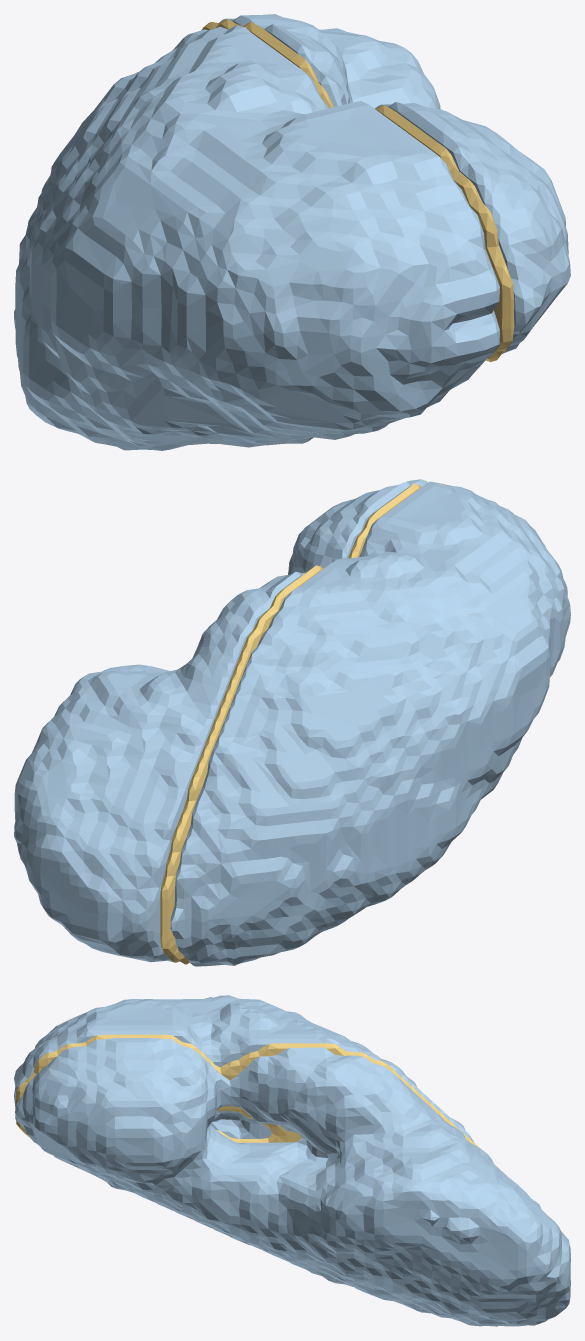
The model's file is prompt.glb.
3 renders of one model, top to bottom at view 1: azimuth 30°, elevation 25°; view 2: azimuth 150°, elevation 25°; view 3: azimuth 270°, elevation 25°, orthographic. The views are drawn at different scales.
Parts seen in each view (by area): view 1: world; view 2: world; view 3: world.
Part boxes in pixels (x1,y1,x2,y2): world: (14,14,570,450); world: (14,479,570,966); world: (14,995,570,1326).
Bounding box in the file's own units: 0.5788 × 0.503 × 0.9091.
